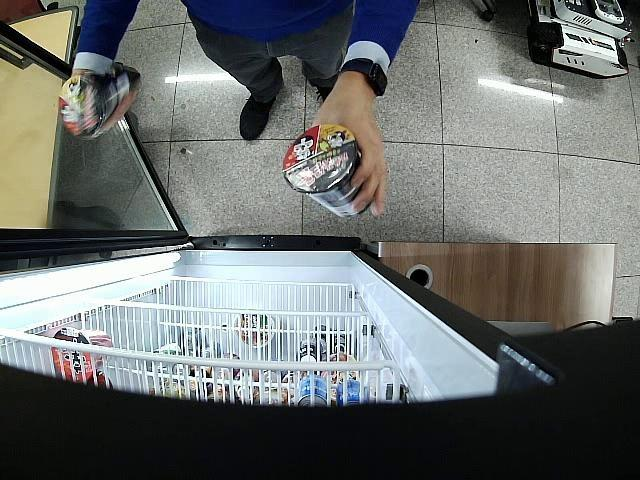08_buldak_S: (284, 124, 371, 217), (59, 61, 141, 140)
